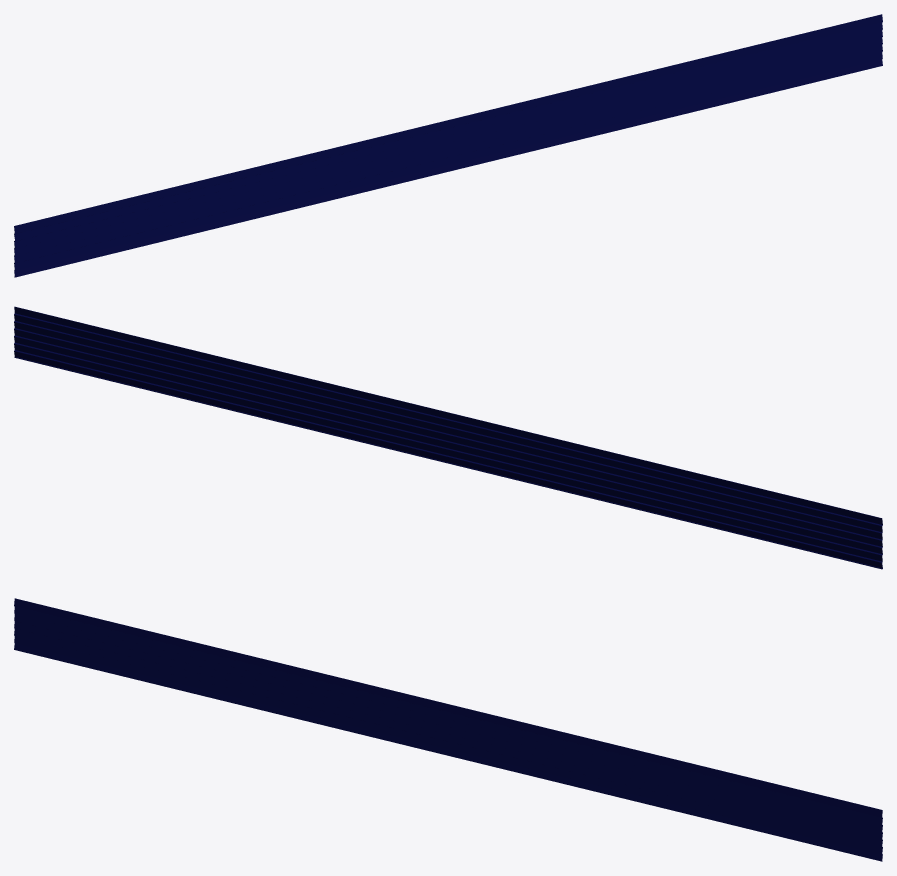
The model's file is Al_Nasar_Football_Stadium_Front_003.FBX.
3 views of the same model, one above another, from view 1: azimuth 30°, elevation 25°; view 2: azimuth 150°, elevation 25°; view 3: azimuth 330°, elevation 25° (orthographic).
Parts seen in each view (by area): view 1: Al_Nasar_Football_Stadium_Front_003; view 2: Al_Nasar_Football_Stadium_Front_003; view 3: Al_Nasar_Football_Stadium_Front_003.
Part boxes in pixels (<box>): Al_Nasar_Football_Stadium_Front_003: <box>14,14,882,277</box>; Al_Nasar_Football_Stadium_Front_003: <box>14,306,882,569</box>; Al_Nasar_Football_Stadium_Front_003: <box>14,598,882,861</box>.
Bounding box in the file's own units: 8501 × 17.74 × 480.
